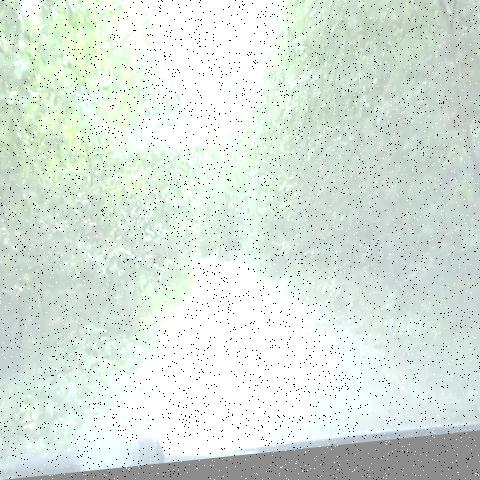pothole: (141, 397, 237, 440), (141, 362, 216, 405), (263, 317, 330, 365), (180, 337, 233, 374), (227, 267, 253, 295), (195, 268, 220, 294)
